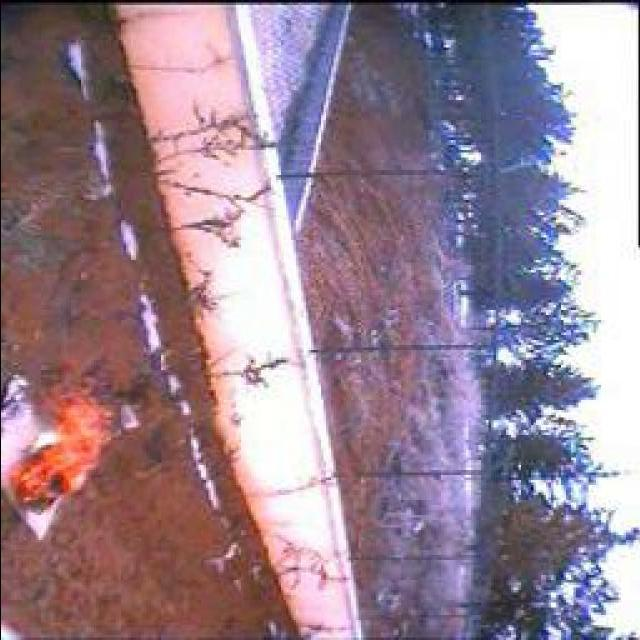Fire: (2, 360, 120, 520)
